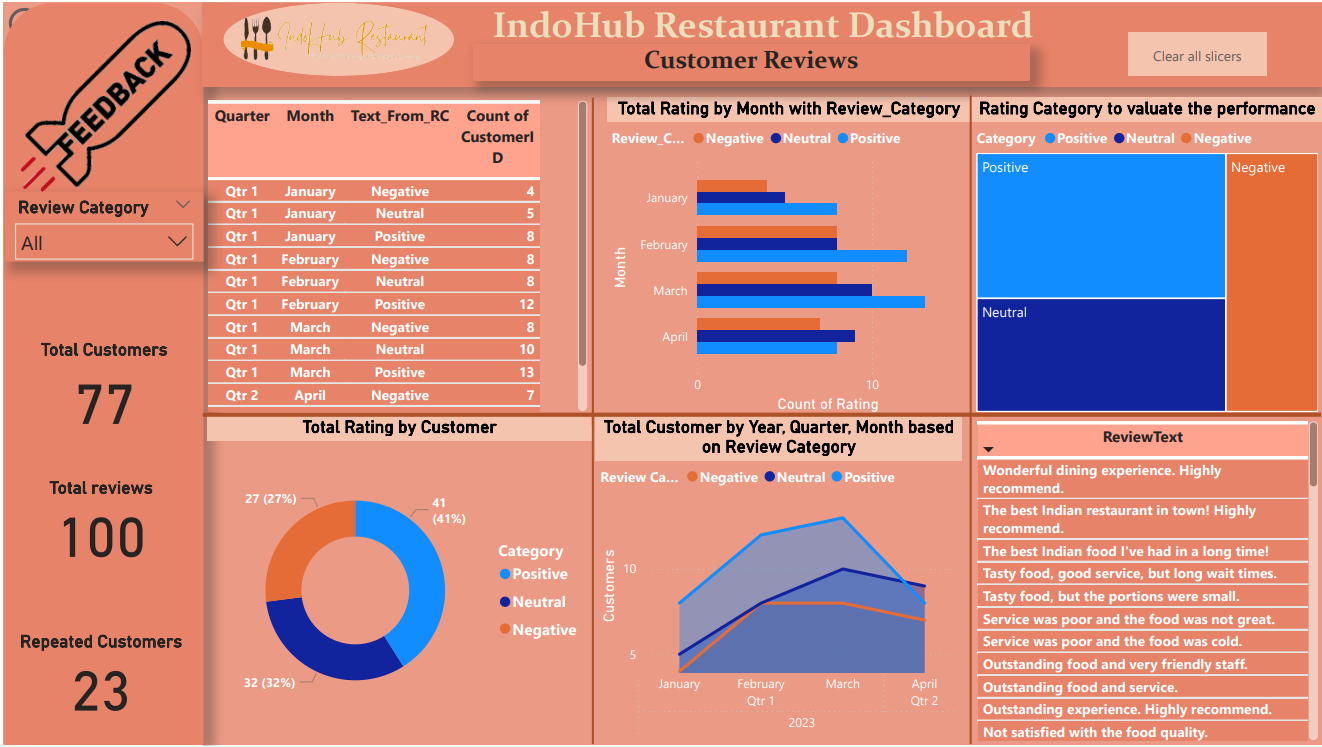

This screenshot's page, from the dashboard's own definition file:
{"tool":"powerbi","page":{"name":"Page 1","canvas":[1280,720],"ordinal":0},"visuals":[{"type":"actionButton","box":[0,0,100,40],"z":0},{"type":"shape","box":[0,0,194.2,720.2],"z":1000},{"type":"card","title":"Total Customers","fields":{"Values":["CountNonNull(Reviews.Rating)"]},"box":[0,329.4,193,138.7],"z":2000},{"type":"clusteredBarChart","title":"Total Rating by Month with Review_Category","fields":{"Y":["CountNonNull(Reviews.Rating)"],"Category":["Reviews.ReviewDate.Variation.Date Hierarchy.Month"],"Series":["Reviews.Text_From_RC"]},"box":[585.1,91.7,353.5,310.1],"z":3000},{"type":"donutChart","title":"Total Rating by Customer","fields":{"Y":["CountNonNull(Reviews.Rating)"],"Category":["Reviews.Text_From_RC"]},"box":[196.6,400.5,374,319.7],"z":4000},{"type":"tableEx","fields":{"Values":["Reviews.ReviewDate.Variation.Date Hierarchy.Quarter","Reviews.ReviewDate.Variation.Date Hierarchy.Month","Reviews.Text_From_RC","Reviews.CustomerID"]},"box":[193,90.5,377.6,310.1],"z":5000},{"type":"slicer","fields":{"Values":["Reviews.Text_From_RC"]},"box":[3.6,247.3,193,68.8],"z":6000},{"type":"areaChart","title":"Total Customer by Year, Quarter, Month based on Review Category","fields":{"Category":["Reviews.ReviewDate.Variation.Date Hierarchy.Year","Reviews.ReviewDate.Variation.Date Hierarchy.Quarter","Reviews.ReviewDate.Variation.Date Hierarchy.Month"],"Series":["Reviews.Text_From_RC"],"Y":["CountNonNull(Reviews.CustomerID)"]},"box":[574.3,400.5,355.9,319.7],"z":7000},{"type":"textbox","title":"IndoHub Restaurant Dashboard ","box":[193.5,0,1086.8,81],"z":8000},{"type":"actionButton","box":[1090.6,29,133.9,42.2],"z":9000},{"type":"image","box":[0,15.7,196.6,225.6],"z":10000},{"type":"shape","box":[213.3,0,223.6,71.2],"z":10500,"group":"g1"},{"type":"group","id":"g1","title":"Group 1","box":[213.3,0,223.6,71.2],"z":11000},{"type":"image","box":[213.6,7.2,222,55.5],"z":11000,"group":"g1"},{"type":"treemap","title":"Rating Category to valuate the performance","fields":{"Group":["Reviews.Text_From_RC"],"Values":["CountNonNull(Reviews.CustomerID)"]},"box":[938.6,91.7,341.4,308.8],"z":12000},{"type":"shape","box":[541.7,400.5,59.1,318.5],"z":13000},{"type":"shape","box":[541.7,91.7,59.1,318.5],"z":14000},{"type":"shape","box":[908.4,90.5,59.1,310.1],"z":15000},{"type":"tableEx","fields":{"Values":["Reviews.ReviewText"]},"box":[938.6,400.5,341.4,319.7],"z":16000},{"type":"shape","box":[908.4,400.5,59.1,318.5],"z":17000},{"type":"shape","box":[193,240.1,1085.8,318.5],"z":18000},{"type":"card","title":"Repeated Customers","fields":{"Values":["Reviews.Repeat_Customers"]},"box":[2.4,466.9,189.4,141.2],"z":19000},{"type":"textbox","title":"Based on Customer Reviews","box":[455,40,540,35],"z":20000}]}

Visuals, with their boxes in screenshot pixels (x1, y1, x2, y2), scaled from the page's 1280x720 canvas onto the 1322x747 screenshot:
actionButton: locate(0, 0, 103, 42)
shape: locate(0, 0, 201, 746)
"Total Customers" card: locate(0, 342, 199, 486)
"Total Rating by Month with Review_Category" clusteredBarChart: locate(604, 95, 969, 417)
"Total Rating by Customer" donutChart: locate(203, 416, 589, 746)
tableEx - Reviews.ReviewDate.Variation.Date Hierarchy.Quarter x Reviews.ReviewDate.Variation.Date Hierarchy.Month: locate(199, 94, 589, 416)
slicer - Reviews.Text_From_RC: locate(4, 257, 203, 328)
"Total Customer by Year, Quarter, Month based on Review Category" areaChart: locate(593, 416, 961, 746)
"IndoHub Restaurant Dashboard " textbox: locate(200, 0, 1321, 84)
actionButton: locate(1126, 30, 1265, 74)
image: locate(0, 16, 203, 250)
shape: locate(220, 0, 451, 74)
"Group 1" group: locate(220, 0, 451, 74)
image: locate(221, 7, 450, 65)
"Rating Category to valuate the performance" treemap: locate(969, 95, 1321, 416)
shape: locate(559, 416, 621, 746)
shape: locate(559, 95, 621, 426)
shape: locate(938, 94, 999, 416)
tableEx - Reviews.ReviewText: locate(969, 416, 1321, 746)
shape: locate(938, 416, 999, 746)
shape: locate(199, 249, 1321, 580)
"Repeated Customers" card: locate(2, 484, 198, 631)
"Based on Customer Reviews" textbox: locate(470, 42, 1028, 78)
